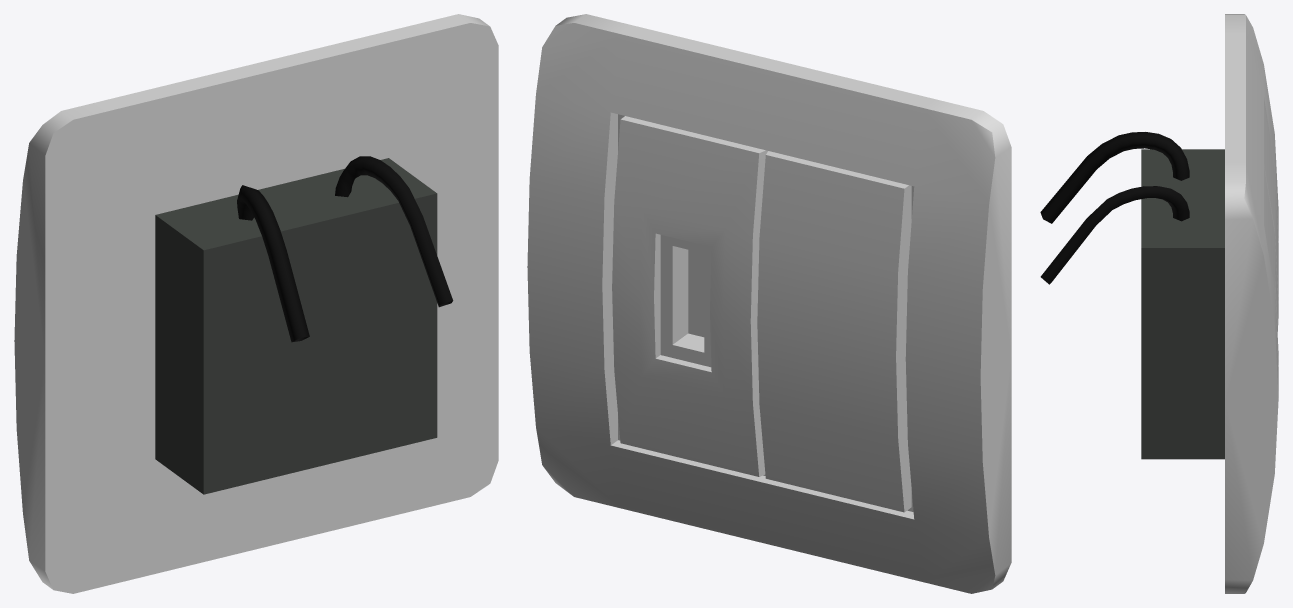
Rendered from rozet_ConductRoom.fbx.
3 views of the same model, side by side, from view 1: azimuth 30°, elevation 25°; view 2: azimuth 150°, elevation 25°; view 3: azimuth 270°, elevation 25° (orthographic). The views are drawn at different scales.
Parts seen in each view (by area): view 1: Vagon_Stateroom_Equipment_sockets_01.001; view 2: Vagon_Stateroom_Equipment_sockets_01.001; view 3: Vagon_Stateroom_Equipment_sockets_01.001.
Part boxes in pixels (bbox=[...]): Vagon_Stateroom_Equipment_sockets_01.001: bbox=[14, 14, 498, 593]; Vagon_Stateroom_Equipment_sockets_01.001: bbox=[527, 14, 1011, 593]; Vagon_Stateroom_Equipment_sockets_01.001: bbox=[1040, 14, 1278, 593].
Size of the model in its own units: 0.1 by 0.1 by 0.0526.
